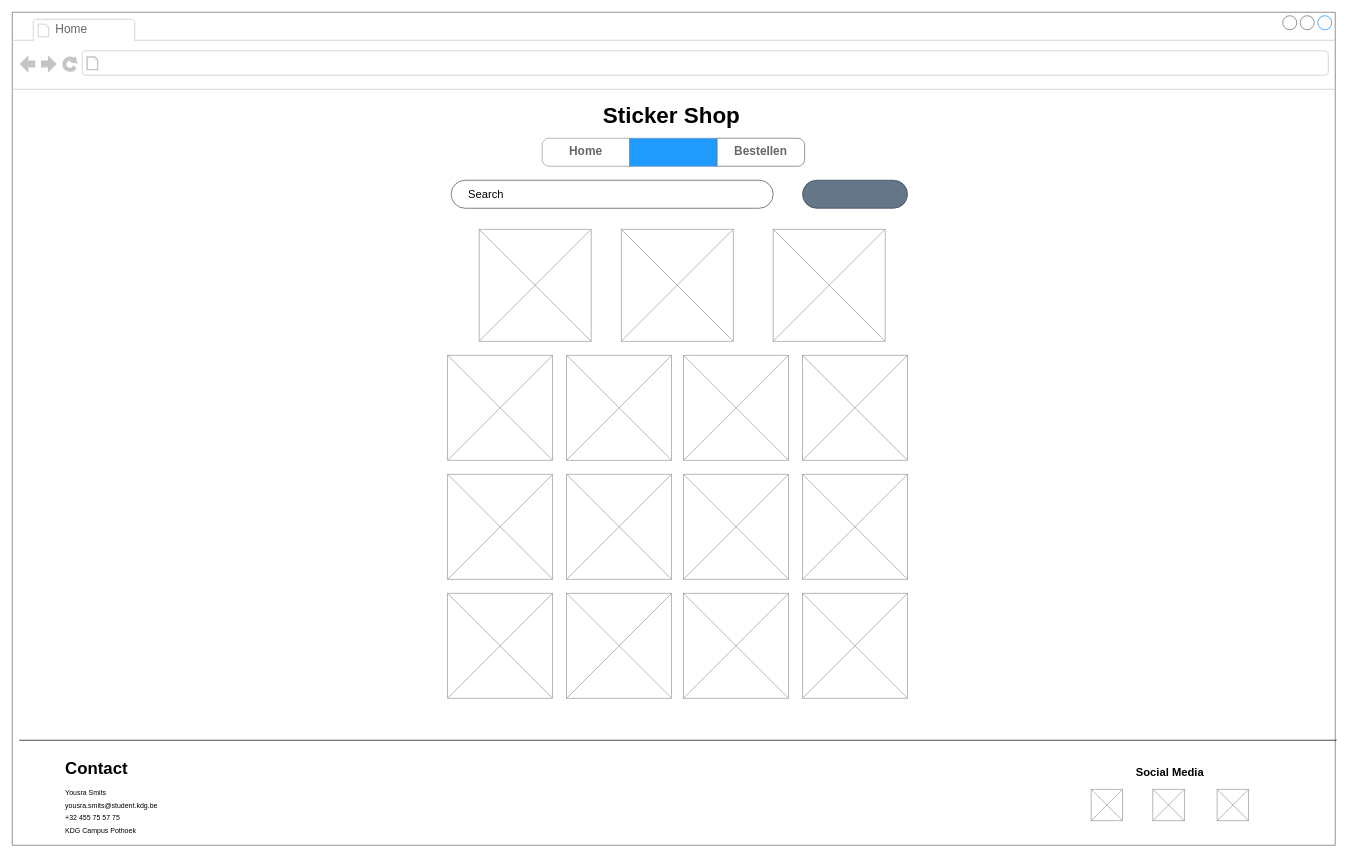
This 1350x858 diagram has some shape labels left out. Each missing label, with the centre of its shape:
"Filter" belongs at (855,194).
"Producten" belongs at (673,152).
